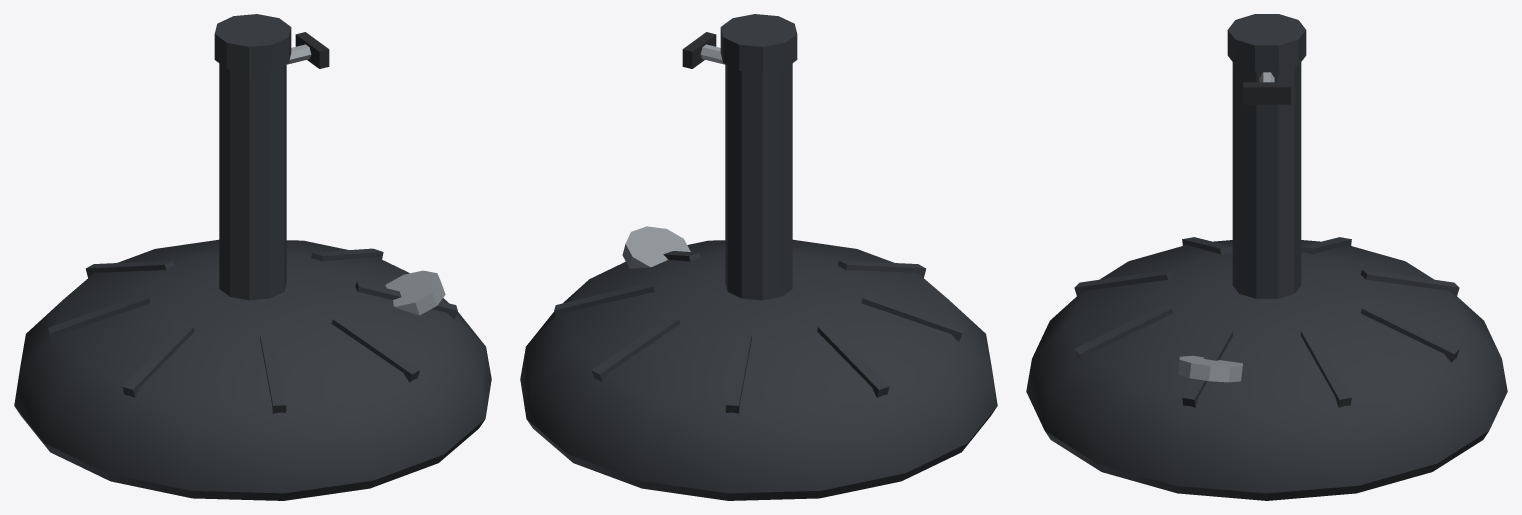
Rendered from SC_Ter_Parasol_Base.gltf.
3 views of the same model, side by side, from view 1: azimuth 30°, elevation 25°; view 2: azimuth 150°, elevation 25°; view 3: azimuth 270°, elevation 25° (orthographic).
Visible parts, largest first — view 1: SC_Ter_Parasol_Base; view 2: SC_Ter_Parasol_Base; view 3: SC_Ter_Parasol_Base.
Part boxes in pixels (<box>): SC_Ter_Parasol_Base: <box>14,14,491,500</box>; SC_Ter_Parasol_Base: <box>520,14,997,500</box>; SC_Ter_Parasol_Base: <box>1026,14,1507,500</box>.
Size of the model in its own units: 0.504 by 0.43 by 0.504.
1 material, 1 textured.
